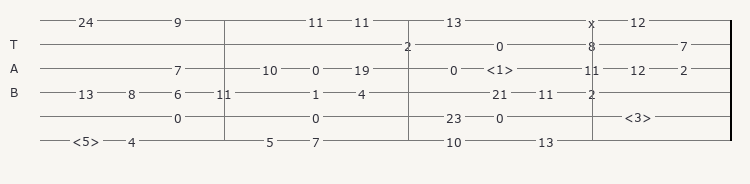0: (174, 110, 186, 123), (312, 62, 324, 75), (312, 110, 324, 123), (450, 62, 462, 75), (496, 38, 508, 51), (496, 110, 508, 123)
1: (312, 86, 324, 99)
10: (262, 62, 282, 75), (446, 134, 466, 147)
11: (216, 86, 236, 99), (308, 14, 328, 27), (354, 14, 374, 27), (538, 86, 558, 99), (584, 62, 604, 75)
12: (630, 14, 650, 27), (630, 62, 650, 75)
13: (78, 86, 98, 99), (446, 14, 466, 27), (538, 134, 558, 147)
19: (354, 62, 374, 75)
2: (404, 38, 416, 51), (588, 86, 600, 99), (680, 62, 692, 75)
21: (492, 86, 512, 99)
23: (446, 110, 466, 123)
24: (78, 14, 98, 27)
4: (128, 134, 140, 147), (358, 86, 370, 99)
5: (266, 134, 278, 147)
6: (174, 86, 186, 99)
7: (174, 62, 186, 75), (312, 134, 324, 147), (680, 38, 692, 51)
8: (128, 86, 140, 99), (588, 38, 600, 51)
9: (174, 14, 186, 27)
harmonic: (72, 133, 104, 147), (486, 61, 518, 75), (624, 109, 656, 123)
x: (588, 15, 599, 26)
